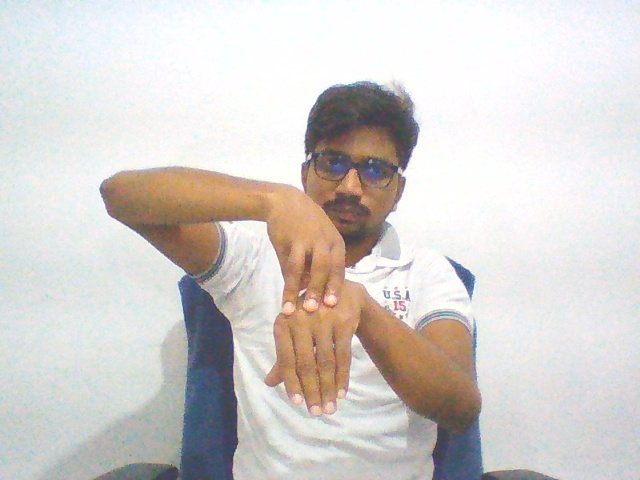papaya: (260, 180, 370, 429)
